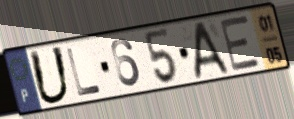5: (141, 26, 180, 87)
6: (110, 38, 142, 89)
A: (194, 19, 232, 82)
E: (218, 14, 263, 74)
L: (64, 46, 105, 99)
U: (27, 45, 73, 107)
